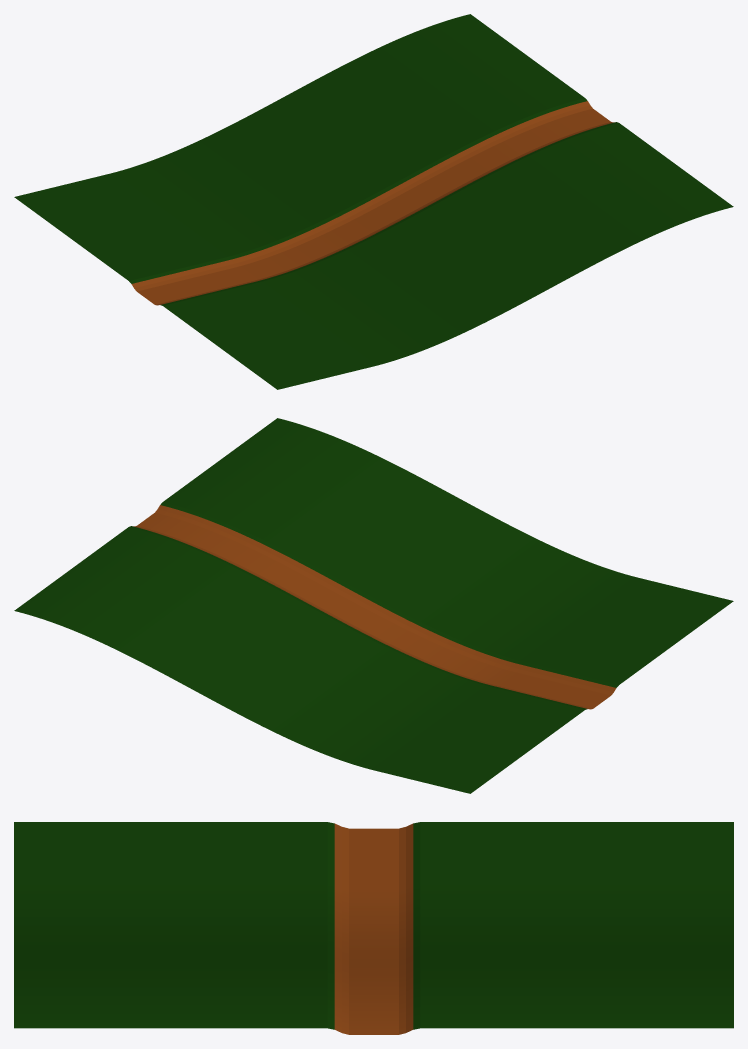
The model's file is Terrain_Part_Ramp_2.fbx.
3 views of the same model, one above another, from view 1: azimuth 30°, elevation 25°; view 2: azimuth 150°, elevation 25°; view 3: azimuth 270°, elevation 25° (orthographic). The views are drawn at different scales.
Visible parts, largest first — view 1: Terrain_Part_Ramp_2; view 2: Terrain_Part_Ramp_2; view 3: Terrain_Part_Ramp_2.
Part boxes in pixels (bbox=[...]): Terrain_Part_Ramp_2: bbox=[14, 14, 733, 389]; Terrain_Part_Ramp_2: bbox=[14, 418, 733, 793]; Terrain_Part_Ramp_2: bbox=[14, 822, 733, 1034].
Bounding box in the file's own units: 2000 × 320 × 2000.
